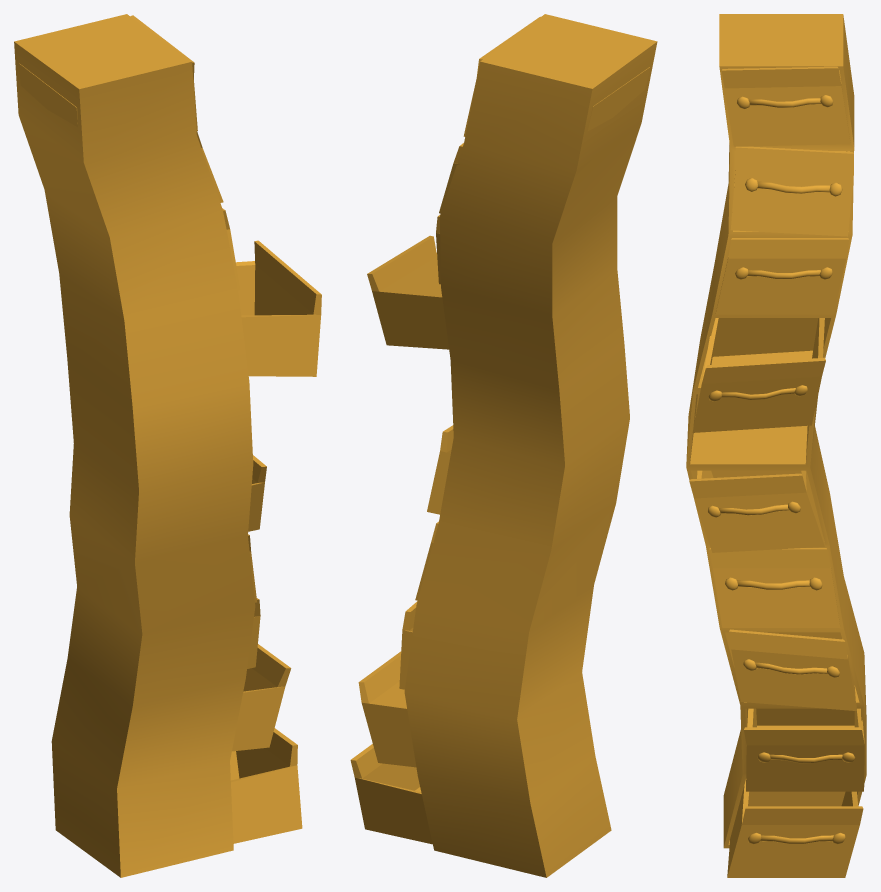
Rendered from mueble 5.fbx.
3 renders of one model, left to right at view 1: azimuth 30°, elevation 25°; view 2: azimuth 150°, elevation 25°; view 3: azimuth 270°, elevation 25°, orthographic. The views are drawn at different scales.
Parts seen in each view (by area): view 1: Cube, Cube.003, Cube.009, Cube.008, Cube.011, Cube.005; view 2: Cube, Cube.003, Cube.009, Cube.008, Cube.011, Cube.005, Cube.007; view 3: Cube, Cube.003, Cube.009, Cube.001, Cube.008, Cube.005, Cube.006, Cube.011, Cube.002, Cube.007.
Part boxes in pixels (<box>): Cube: <box>14,14,255,877</box>; Cube.003: <box>236,240,321,376</box>; Cube.009: <box>230,728,302,843</box>; Cube.008: <box>232,644,291,751</box>; Cube.011: <box>19,15,197,130</box>; Cube.005: <box>248,455,266,531</box>; Cube: <box>404,14,657,877</box>; Cube.003: <box>367,235,448,349</box>; Cube.009: <box>350,744,432,844</box>; Cube.008: <box>358,651,416,767</box>; Cube.011: <box>463,16,649,136</box>; Cube.005: <box>427,425,453,514</box>; Cube.007: <box>399,601,417,689</box>; Cube: <box>686,14,866,848</box>; Cube.003: <box>692,318,825,432</box>; Cube.009: <box>727,779,863,877</box>; Cube.001: <box>730,146,853,236</box>; Cube.008: <box>744,708,864,791</box>; Cube.005: <box>689,470,824,552</box>; Cube.006: <box>709,548,840,627</box>; Cube.011: <box>721,66,850,146</box>; Cube.002: <box>715,238,849,314</box>; Cube.007: <box>729,629,856,710</box>.
Bounding box in the file's own units: 562 × 1801 × 387.
